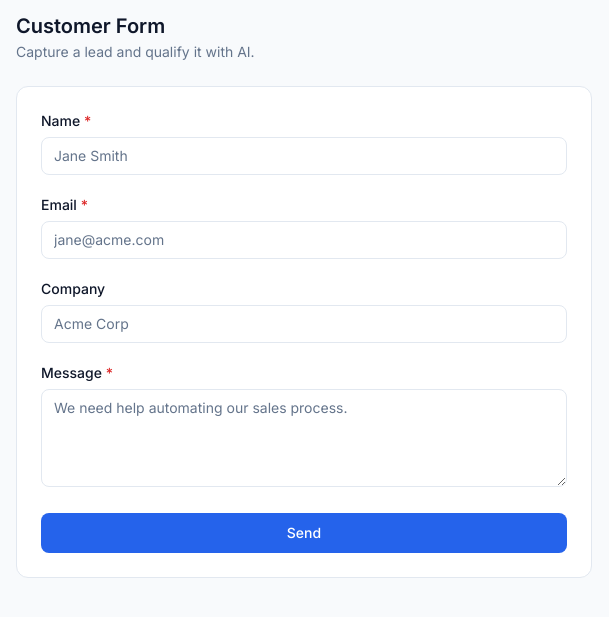
NewLead form validation › rejects an invalid email
In the field labelled "Name *": (304, 156) [41, 137, 567, 175], type "John Smith"
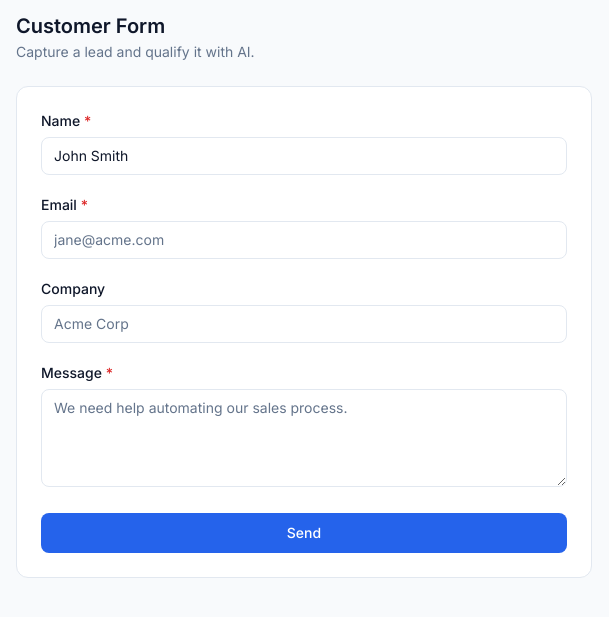
In the field labelled "Email *": (304, 240) [41, 221, 567, 259], type "not-an-email"
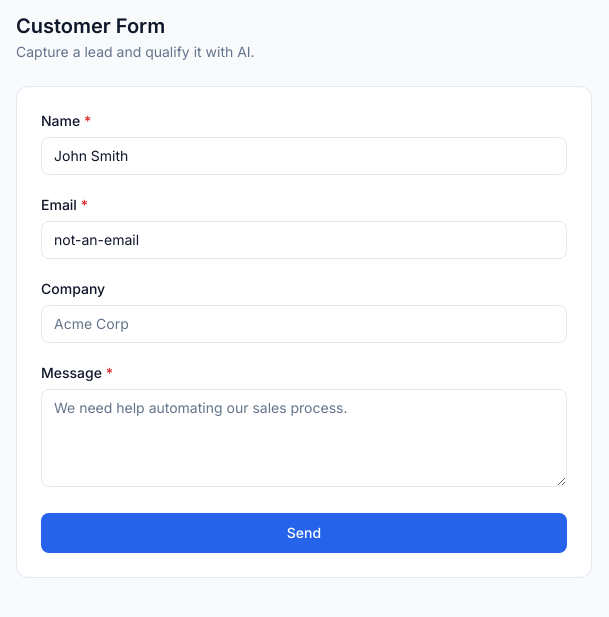
In the text box labelled "Message *": (304, 438) [41, 389, 567, 487], type "We need automation."
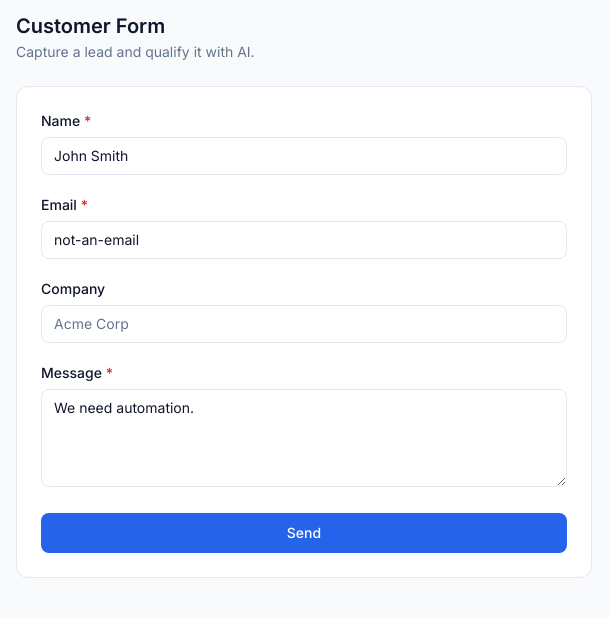
Click the button "Send": (304, 533) [41, 513, 567, 553]
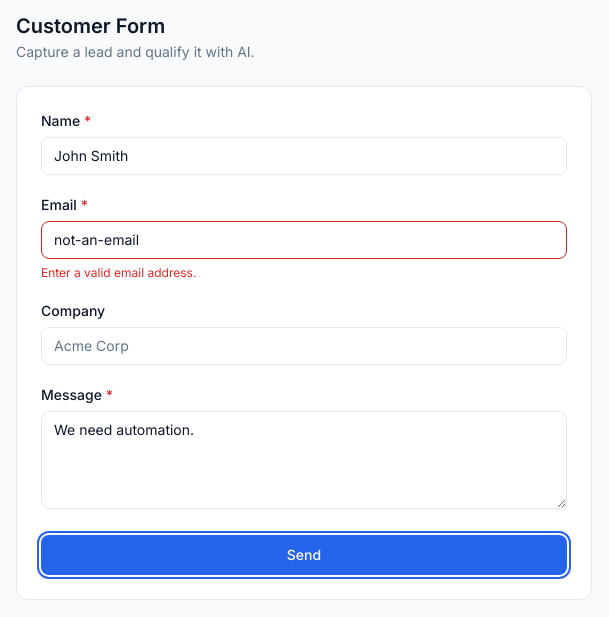
Result: the text "Enter a valid email address." is shown at [41, 265, 196, 280]
